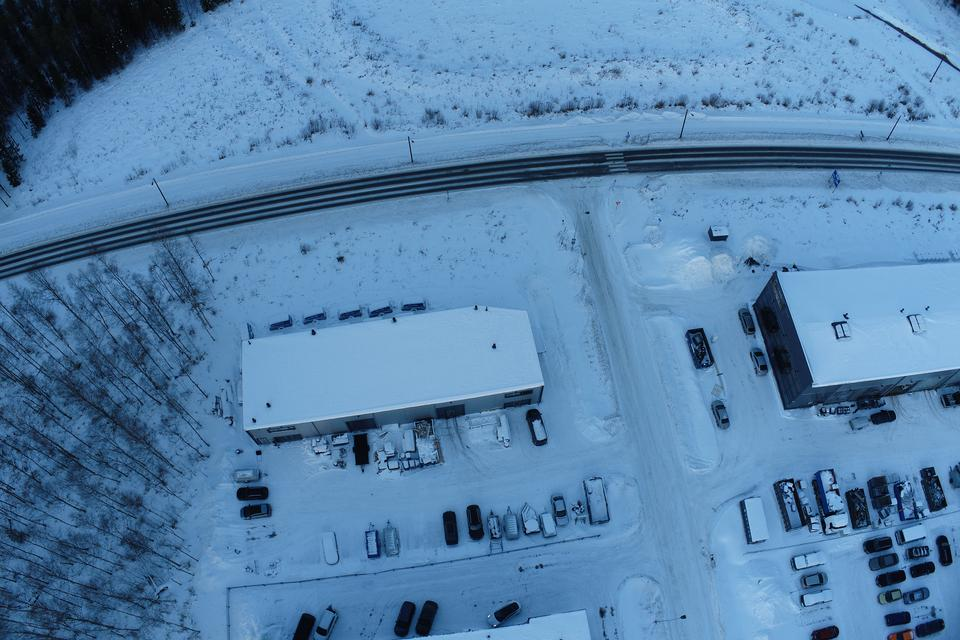intersection: (510, 88, 673, 281)
